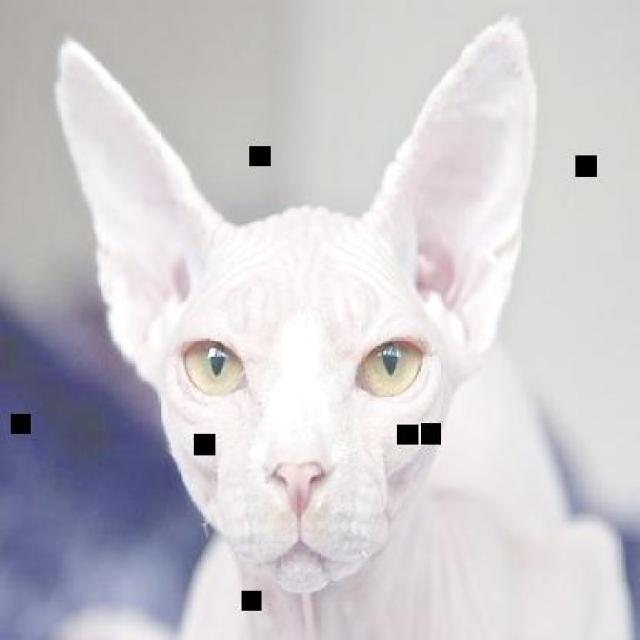cat: (54, 14, 572, 638)
